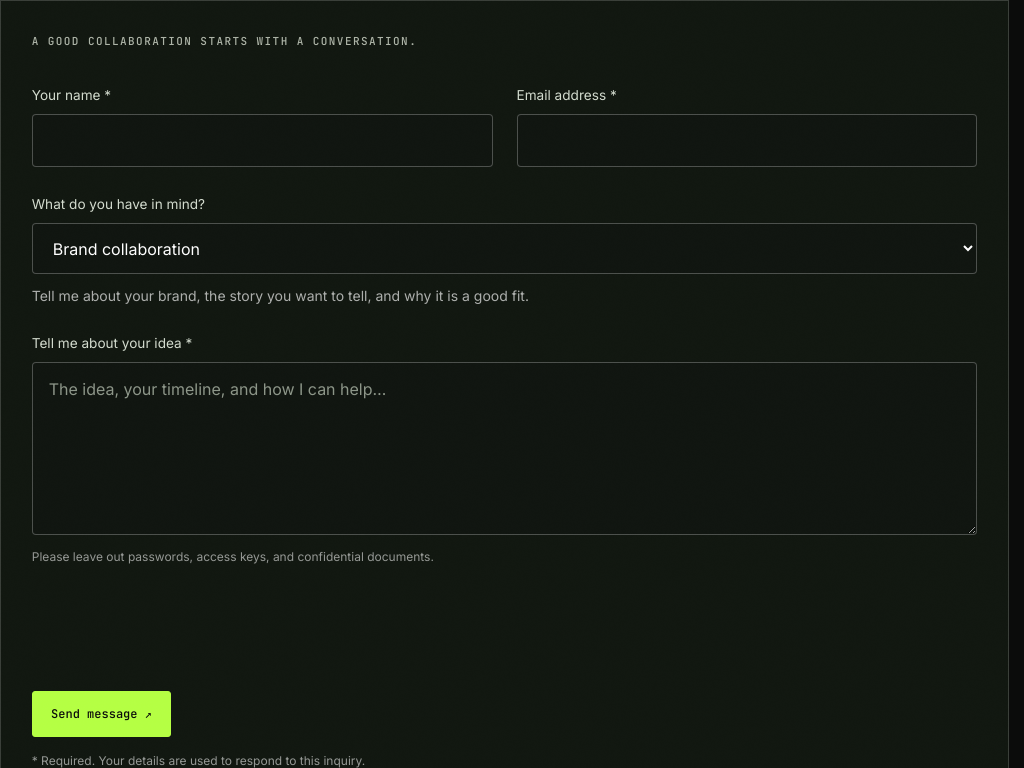
it: contact submission states › never sends a local preview inquiry
Type "Preview Tester" into the field labelled "Your name *" at [262, 140], box [32,114,492,167]
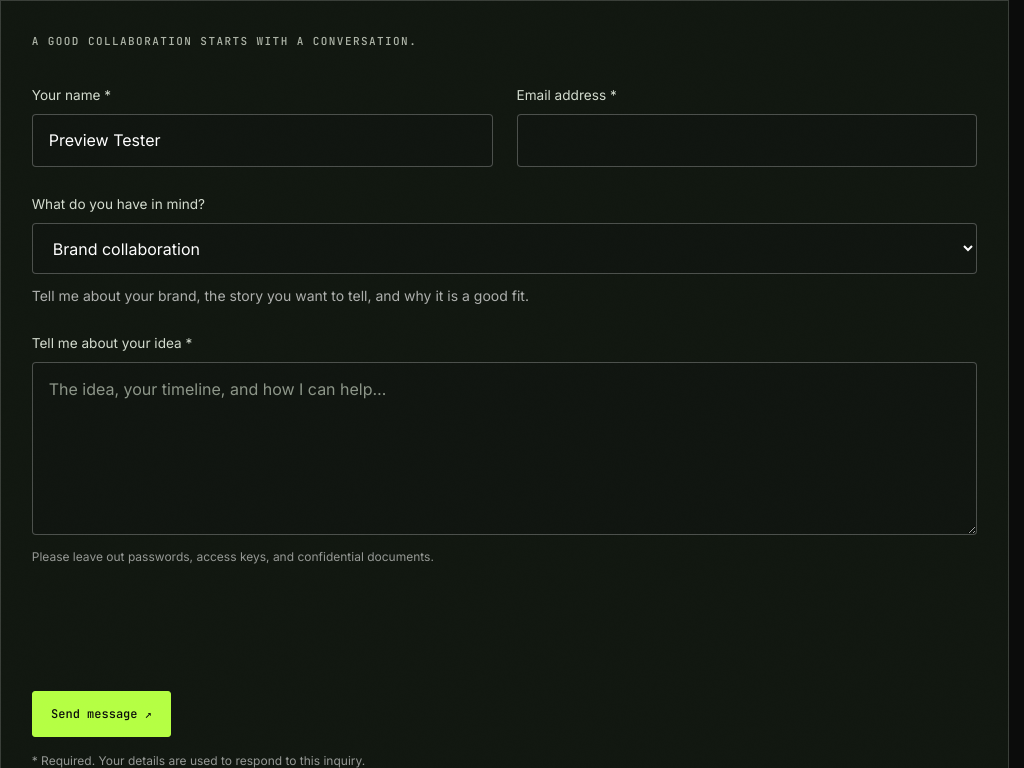
Type "test@example.com" into the field labelled "Email address *" at [747, 140], box [516,114,977,167]
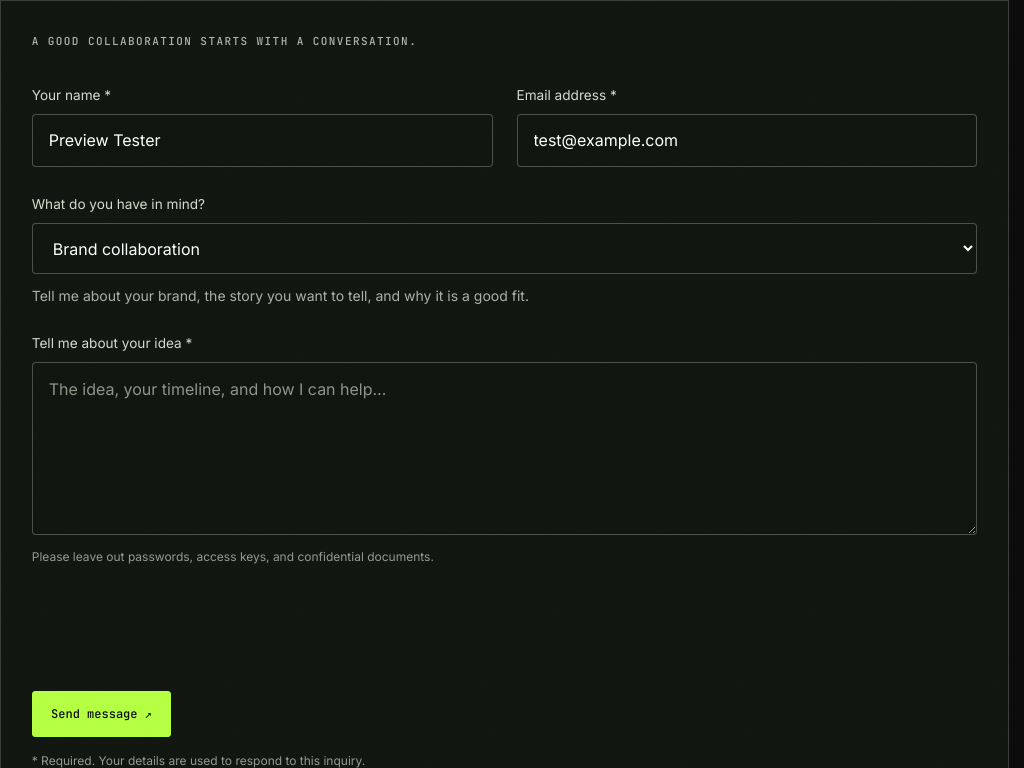
Type "This is a local test only." into the text box labelled "Tell me about your idea *" at [504, 449], box [32,362,977,535]
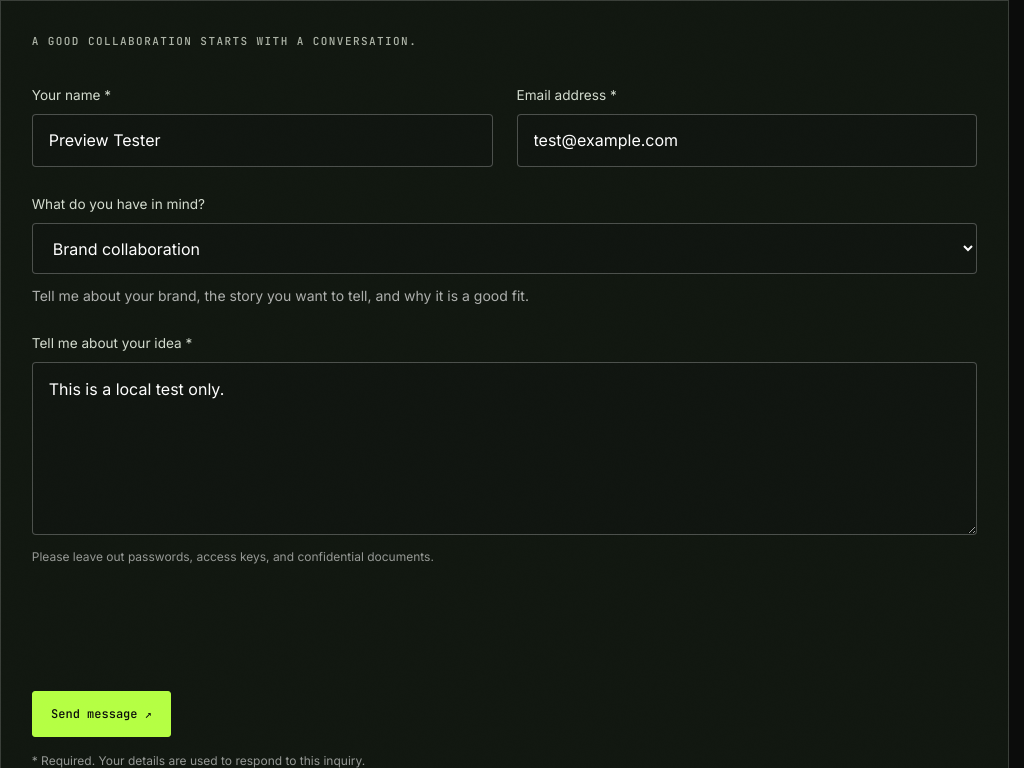
Click the button "Send message ↗" at [102, 714], box [32,691,171,737]
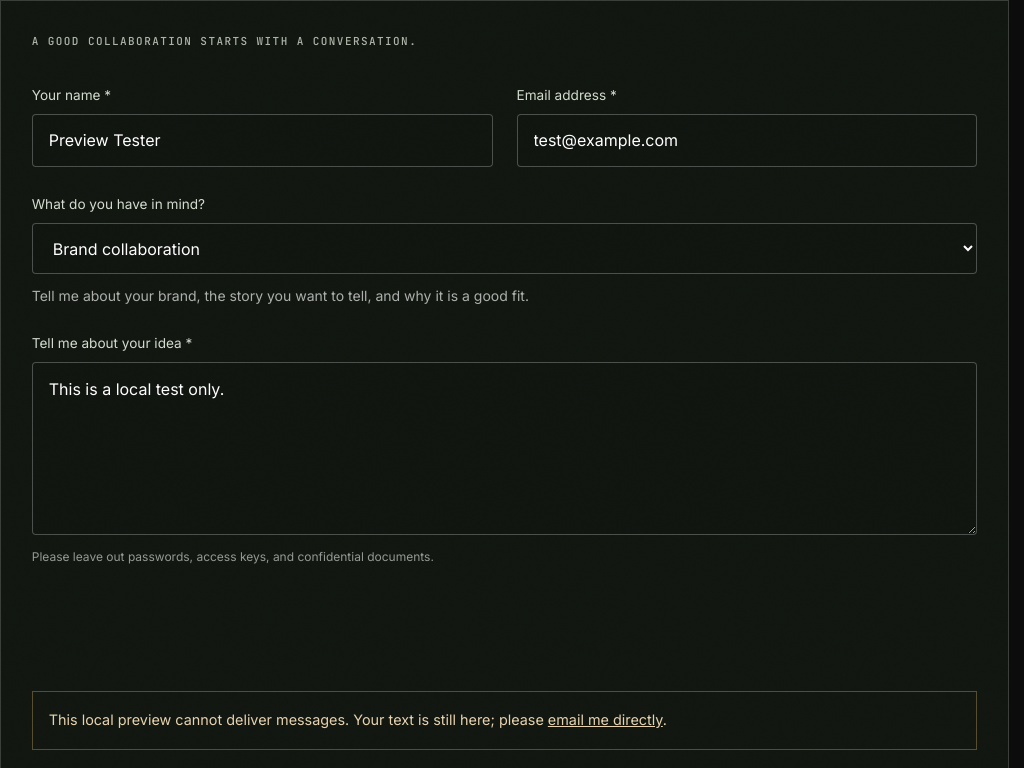
Expected: the message shows "local preview cannot deliver", [49,711,548,728]
